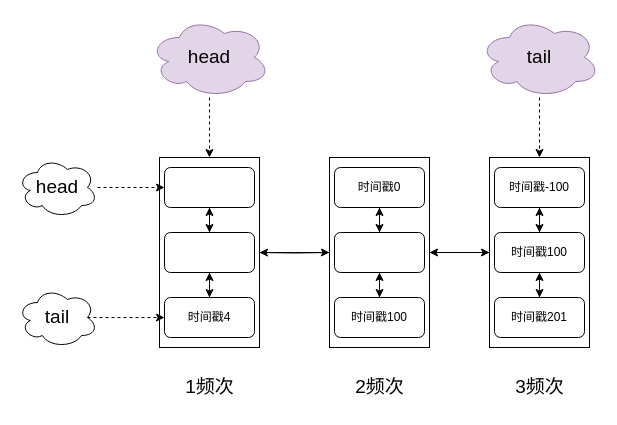
Some shapes in this 617 by 425 pixel diagram are drawn without their labels. Here are the shapes that lost their labels. From the top down, the centre of each, then its label:
the point at 209,187: 时间戳1
the point at 209,252: 时间戳3
the point at 379,252: 时间戳2
